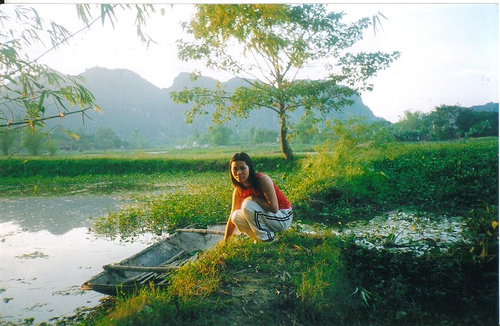without_mask: (230, 156, 251, 185)
